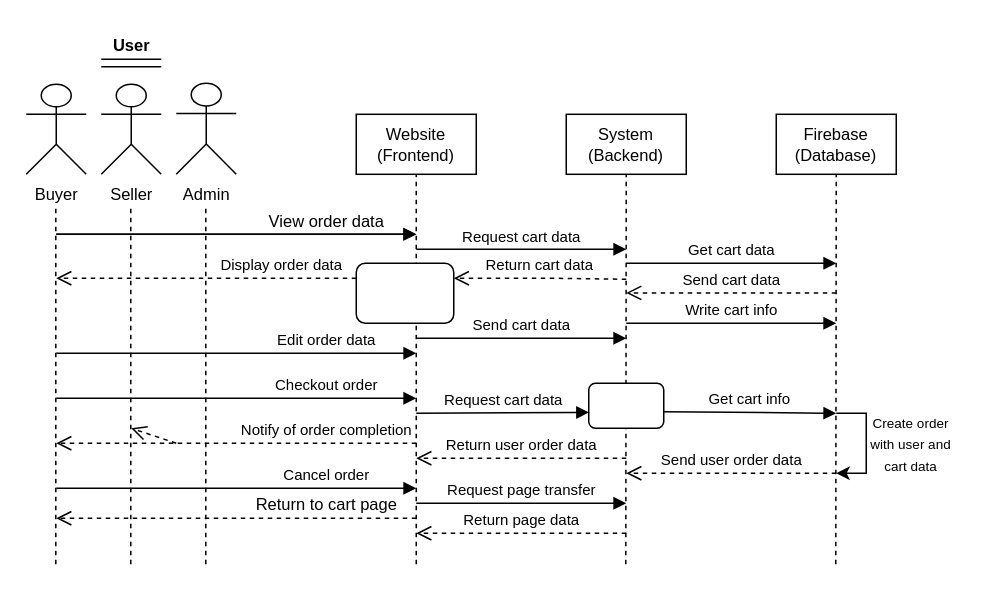
This 983x593 diagram has some shape labels left out. Here are the shapes that lost their labels. From the top down, the centre of each, then its label:
At (x=404, y=292): "Cart data formatted into order data".
At (x=625, y=405): "Validate payment".
